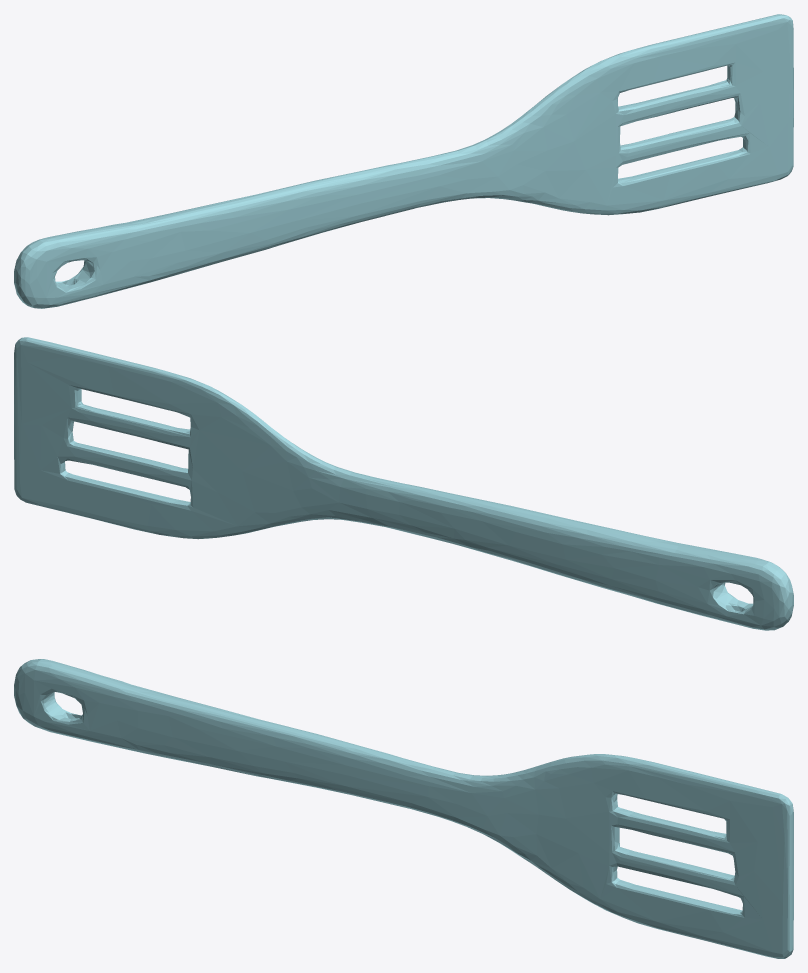
Rendered from wooden_spatula.obj.
3 views of the same model, one above another, from view 1: azimuth 30°, elevation 25°; view 2: azimuth 150°, elevation 25°; view 3: azimuth 330°, elevation 25° (orthographic).
Parts seen in each view (by area): view 1: geometry_0; view 2: geometry_0; view 3: geometry_0.
Boxes of the visible parts, x1,y1,x2,y2 form: geometry_0: [14, 14, 793, 308]; geometry_0: [14, 337, 793, 630]; geometry_0: [14, 659, 793, 958].
Size of the model in its own units: 0.3001 by 0.0609 by 0.00854.
